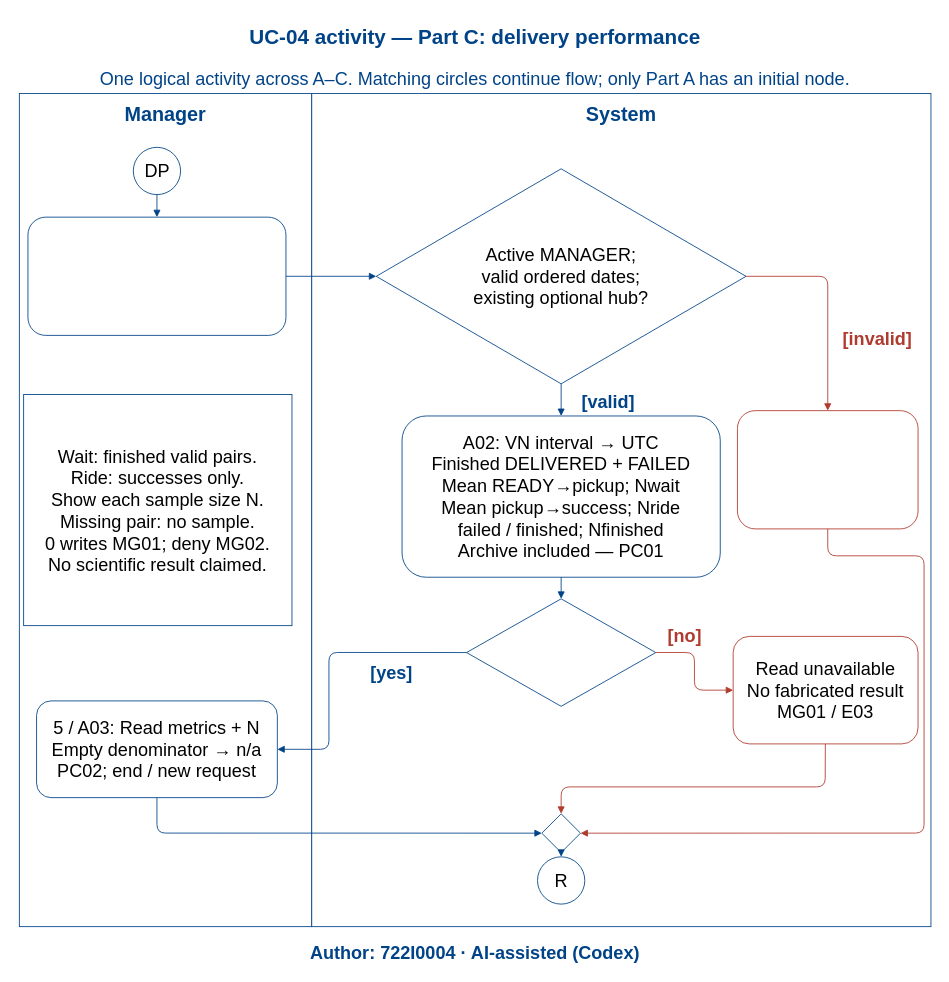
This 949x982 diagram has some shape labels left out. Here are the shapes that lost their labels. From the top down, the box of each, then its label:
(27, 216, 286, 335): A02: deliveryReport( startDateVN, endDateVN, hubId?)
(737, 410, 918, 529): Refuse; no changes MG01/02 / E01–02
(466, 598, 656, 706): Operation succeeds?
